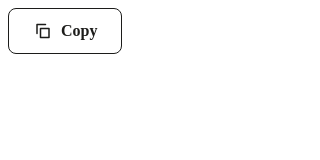
Scenario: CopyButton › reports a failure and hands over the error
Click the button "Copy" at (65, 31), box [8,8,122,54]
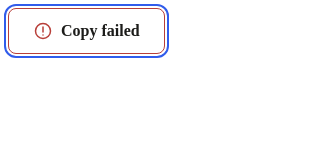
Expected: the button "Copy failed" has attribute data-status="failed", [8,8,165,54]
